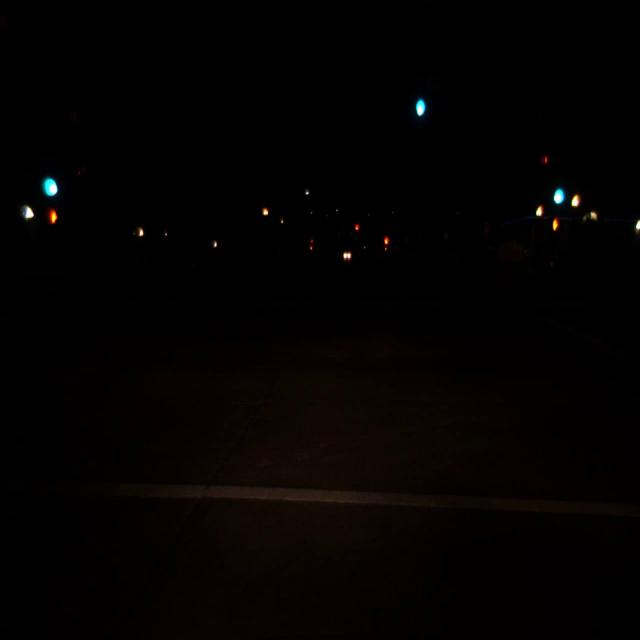go: (39, 156, 59, 203), (551, 170, 565, 208), (412, 84, 427, 118)
go traffic light: (39, 156, 59, 203), (551, 170, 565, 208), (412, 84, 427, 118)
stop: (384, 238, 388, 252), (355, 224, 359, 235), (309, 239, 313, 245)
stop traffic light: (384, 238, 388, 252), (355, 224, 359, 235), (309, 239, 313, 245)
